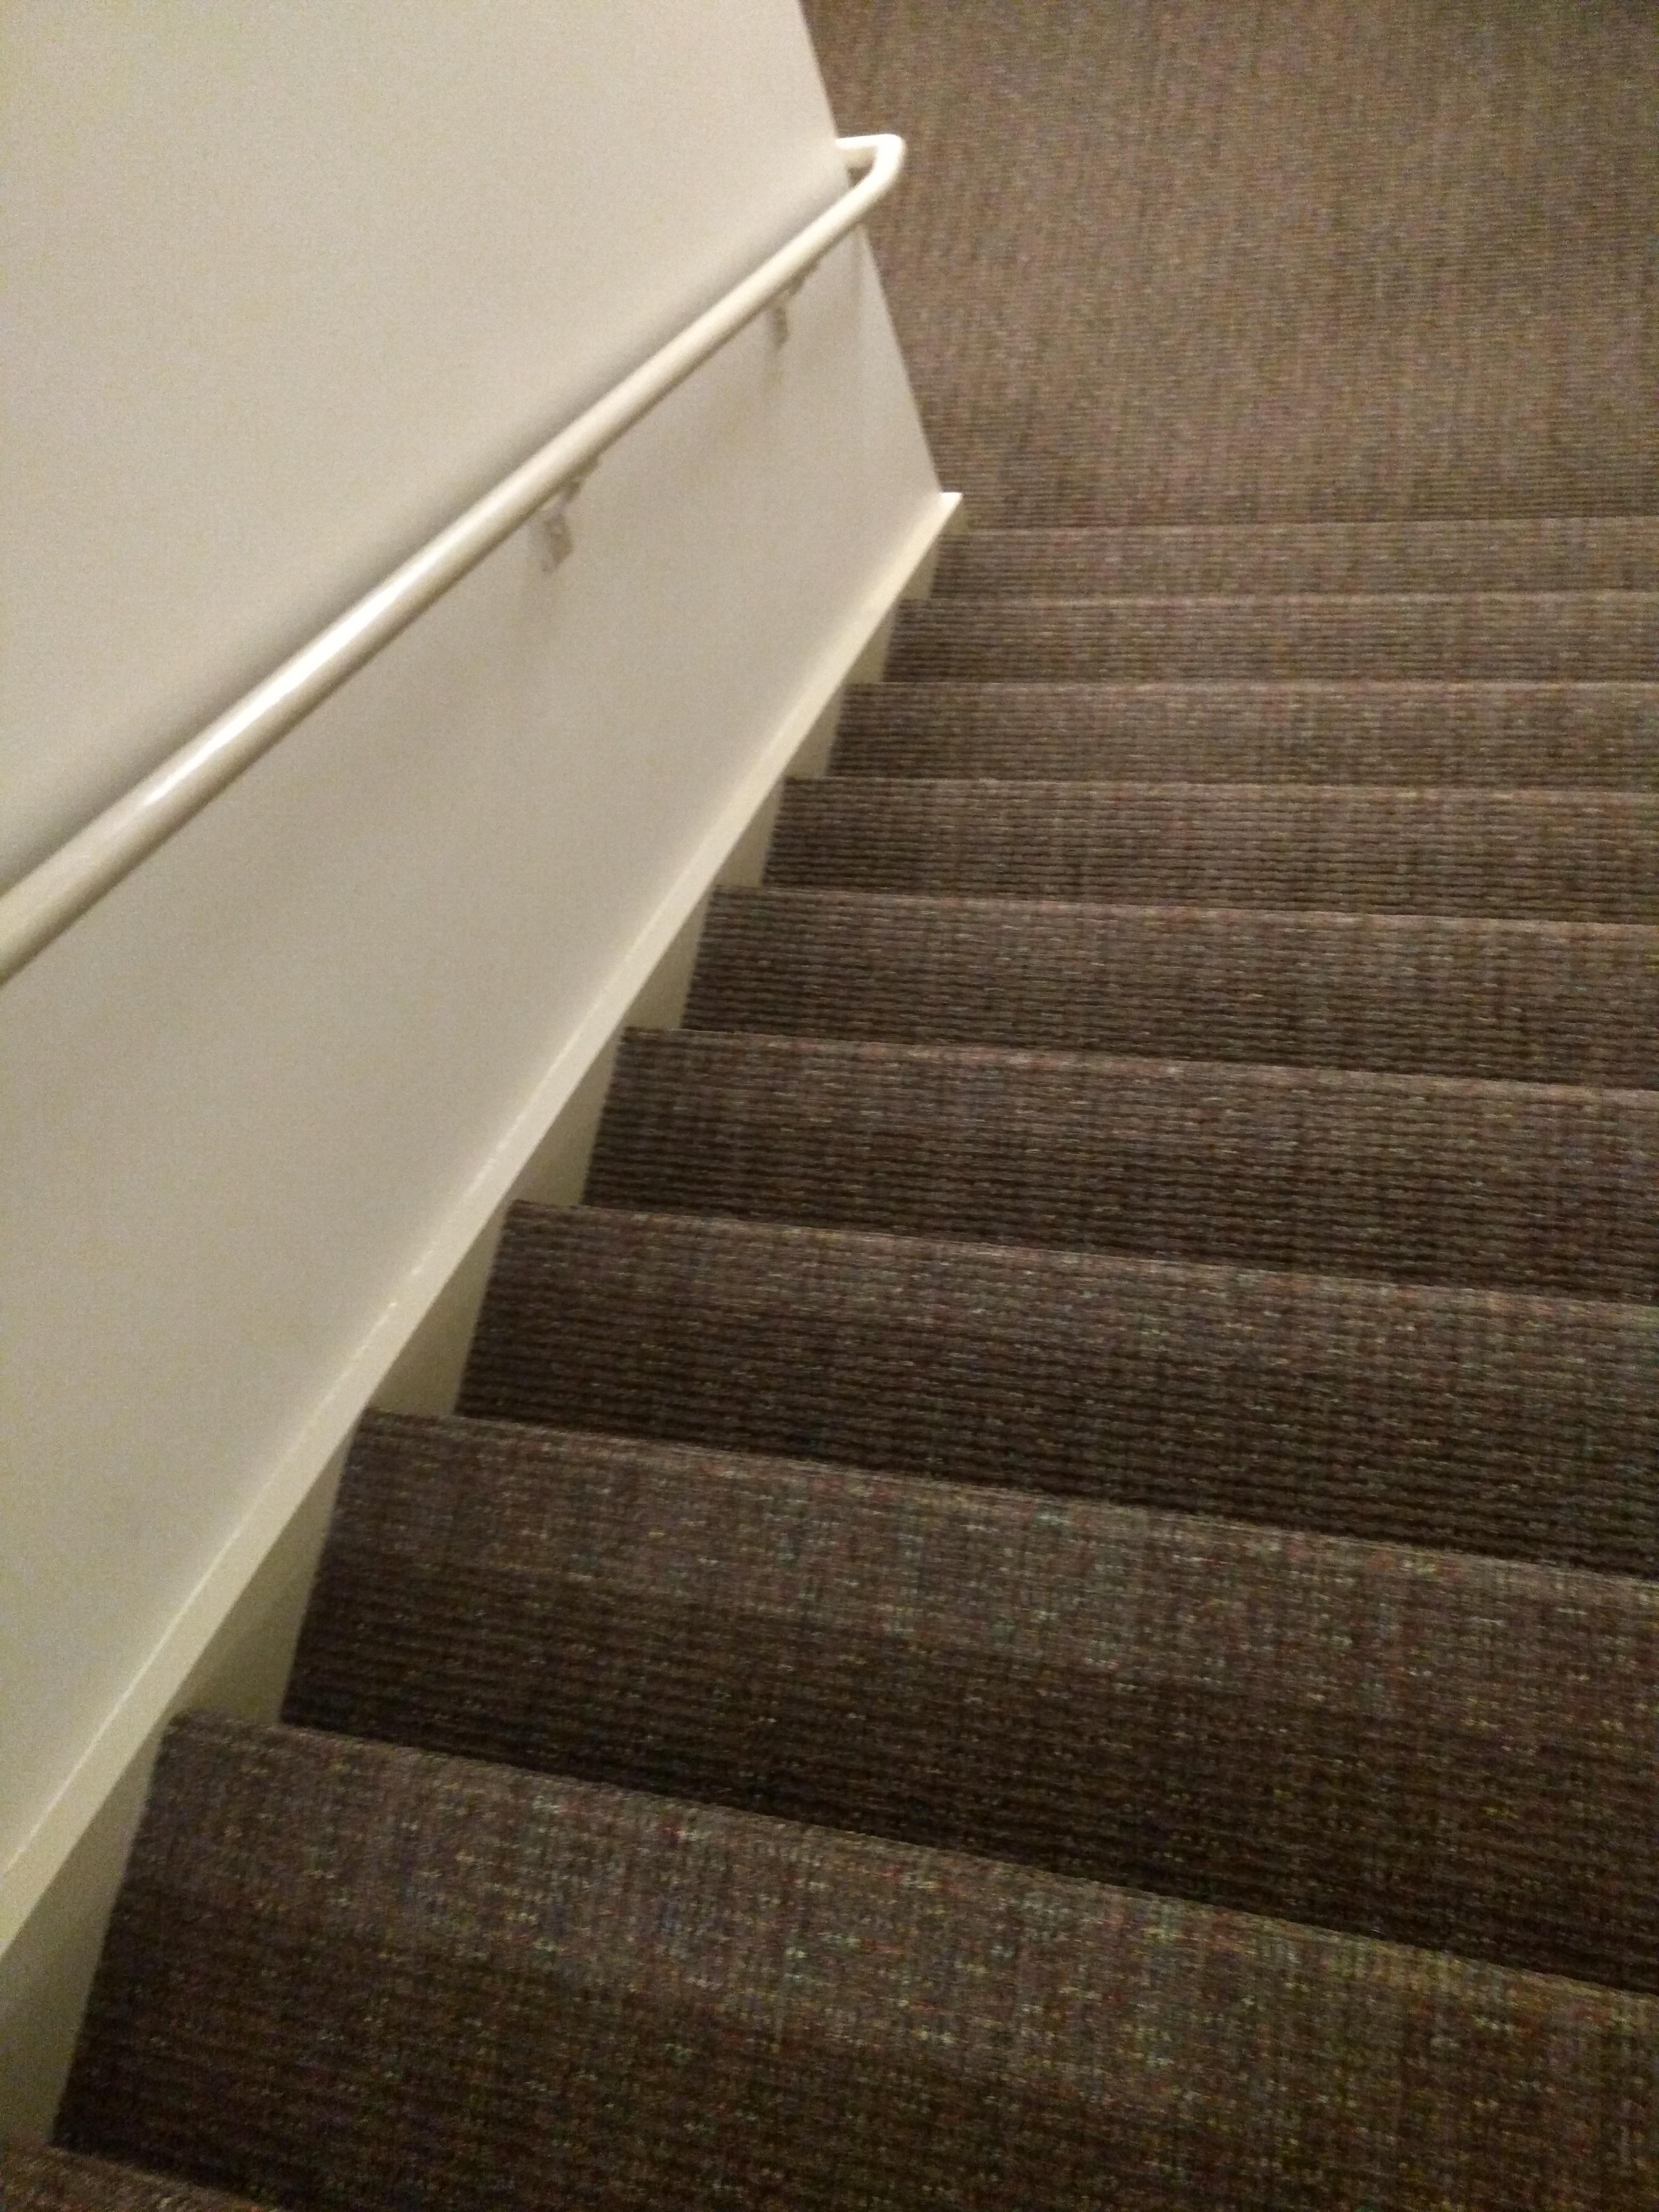stairs_down: (35, 496, 1654, 2212)
